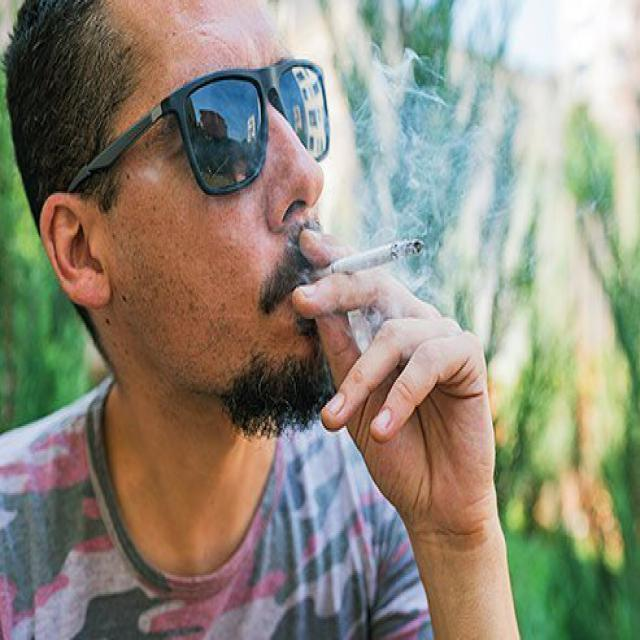smoking: (283, 211, 442, 281)
